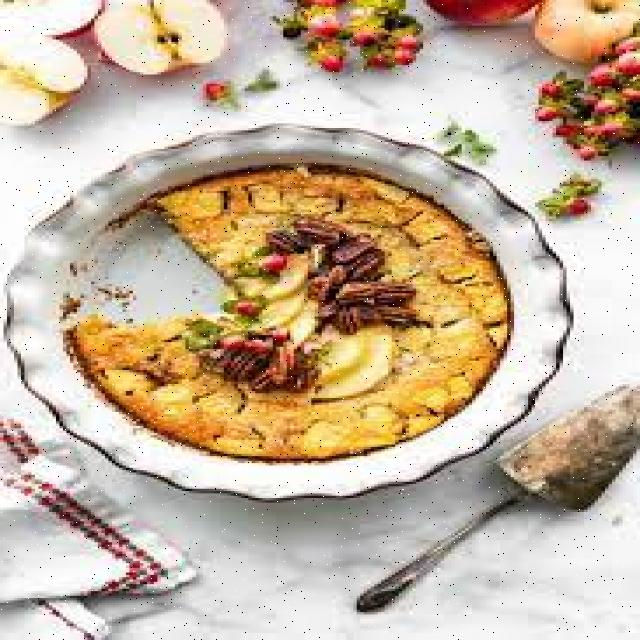Apple: (97, 1, 230, 74), (0, 34, 94, 132), (535, 1, 640, 59), (312, 336, 390, 398), (419, 0, 543, 26), (0, 3, 95, 33), (274, 257, 307, 293), (266, 308, 307, 330)
